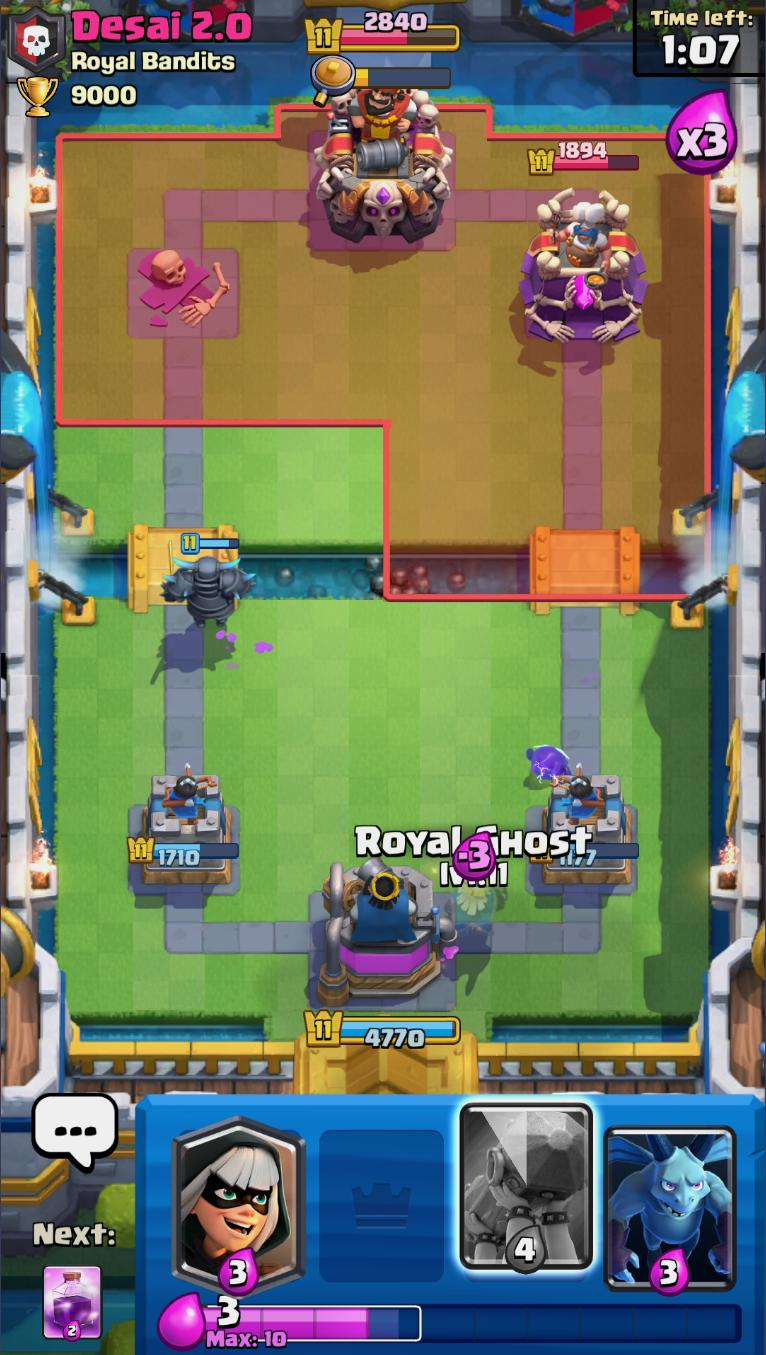BanditDeck: (166, 1095, 313, 1287)
BattleRamDeck: (455, 1096, 598, 1295)
Chef: (553, 198, 616, 277)
Elixir: (204, 1293, 747, 1350)
Empty: (308, 1098, 451, 1296)
EnemyTower: (517, 186, 649, 348)
EnemyTowerBrocken: (122, 240, 243, 340)
KingTower: (312, 82, 455, 245)
KingTowerHP: (303, 9, 463, 56)
MinionsDeck: (601, 1096, 741, 1296)
MyElectroSpirit: (520, 741, 573, 783)
MyKingHP: (300, 1006, 462, 1051)
MyKingTower: (316, 851, 462, 1009)
MyPekka: (161, 533, 259, 631)
MyPrincessTower: (125, 770, 242, 892), (528, 775, 639, 894)
MyPrincessTowerHP: (528, 833, 642, 869), (128, 834, 244, 868)
RageNext: (41, 1264, 103, 1315)
TowerPrincessHP: (527, 140, 643, 179)
